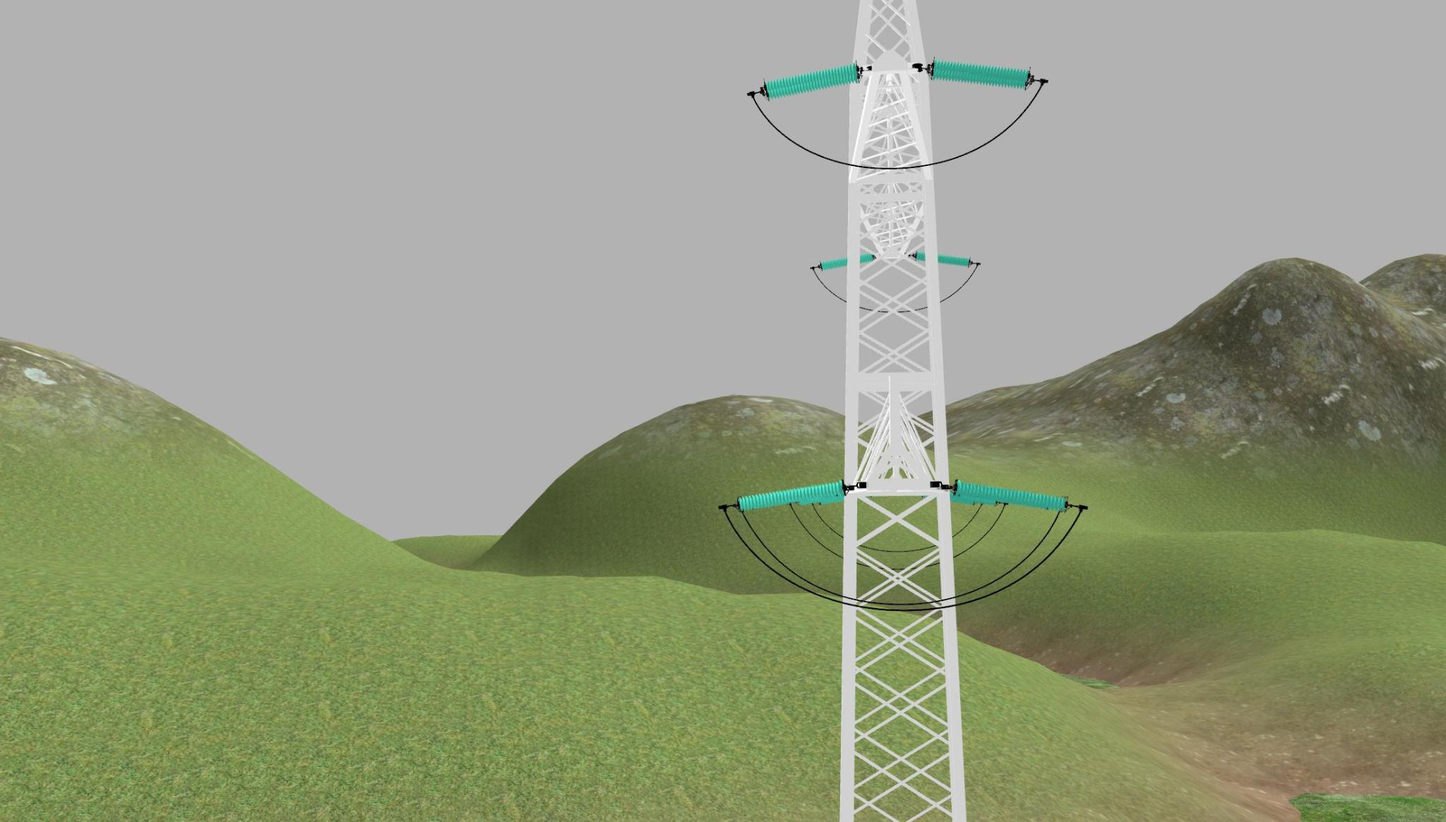tower: (833, 0, 966, 822)
